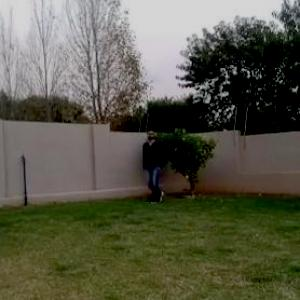follow: (145, 127, 164, 206)
